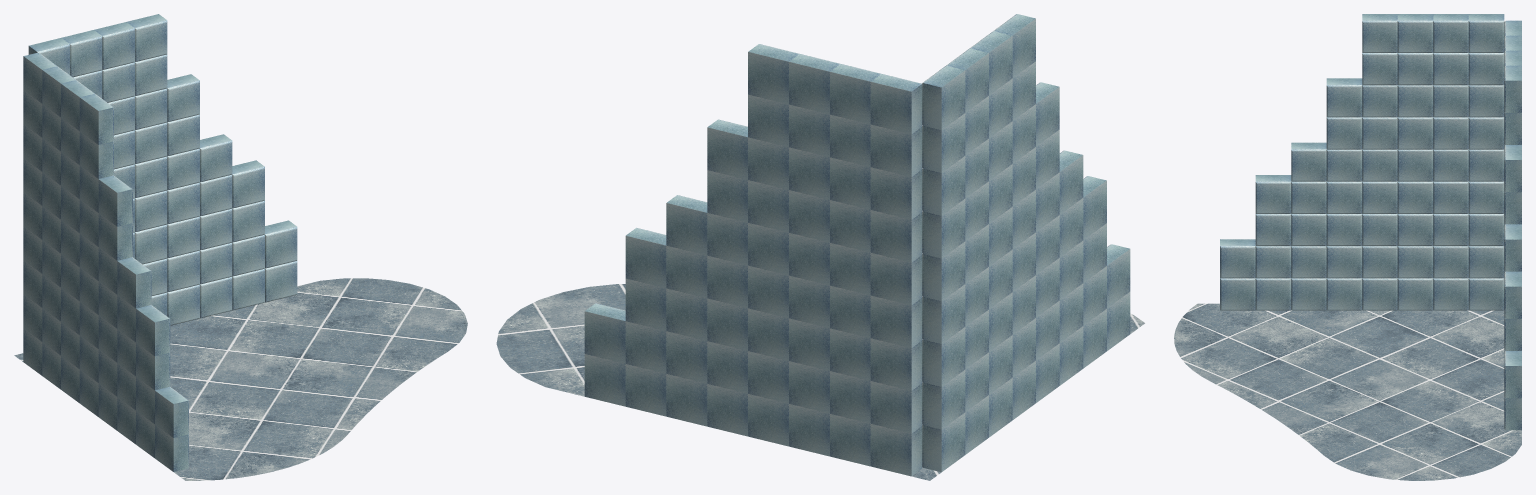
The model's file is Bath inviroment.fbx.
3 renders of one model, left to right at view 1: azimuth 30°, elevation 25°; view 2: azimuth 150°, elevation 25°; view 3: azimuth 270°, elevation 25°, orthographic. The views are drawn at different scales.
Visible parts, largest first — view 1: Group4, glassbricks43, glassbricks54, glassbricks28, glassbricks31, glassbricks19, glassbricks97, glassbricks101, glassbricks106, glassbricks108, glassbricks82, glassbricks85 (+75 smaller); view 2: Group4, glassbricks105, glassbricks51, glassbricks63, glassbricks91, glassbricks100, glassbricks61, glassbricks62, glassbricks92, glassbricks102, glassbricks94, glassbricks106 (+97 smaller); view 3: Group4, glassbricks54, glassbricks28, glassbricks47, glassbricks51, glassbricks19, glassbricks31, glassbricks43, glassbricks52, glassbricks32, glassbricks37, glassbricks3 (+52 smaller).
Part boxes in pixels (left/top/right/bottom): Group4: left=14, top=278, right=467, bottom=480; glassbricks43: left=79, top=93, right=113, bottom=144; glassbricks54: left=98, top=175, right=132, bottom=226; glassbricks28: left=136, top=305, right=170, bottom=356; glassbricks31: left=117, top=257, right=151, bottom=308; glassbricks19: left=155, top=387, right=188, bottom=437; glassbricks97: left=127, top=14, right=167, bottom=61; glassbricks101: left=94, top=22, right=134, bottom=69; glassbricks106: left=61, top=30, right=102, bottom=77; glassbricks108: left=167, top=74, right=199, bottom=122; glassbricks82: left=232, top=160, right=264, bottom=208; glassbricks85: left=200, top=134, right=232, bottom=182; Group4: left=496, top=284, right=1144, bottom=480; glassbricks105: left=870, top=74, right=922, bottom=134; glassbricks51: left=922, top=65, right=965, bottom=130; glassbricks63: left=870, top=338, right=922, bottom=390; glassbricks91: left=870, top=210, right=922, bottom=262; glassbricks100: left=870, top=167, right=922, bottom=219; glassbricks61: left=870, top=381, right=922, bottom=433; glassbricks62: left=870, top=424, right=922, bottom=476; glassbricks92: left=870, top=253, right=922, bottom=305; glassbricks102: left=870, top=124, right=922, bottom=176; glassbricks94: left=870, top=295, right=922, bottom=347; glassbricks106: left=830, top=64, right=881, bottom=124; Group4: left=1174, top=303, right=1521, bottom=480; glassbricks54: left=1326, top=78, right=1362, bottom=117; glassbricks28: left=1255, top=175, right=1291, bottom=213; glassbricks47: left=1397, top=14, right=1433, bottom=52; glassbricks51: left=1468, top=14, right=1504, bottom=52; glassbricks19: left=1220, top=239, right=1255, bottom=278; glassbricks31: left=1291, top=142, right=1326, bottom=181; glassbricks43: left=1362, top=14, right=1397, bottom=52; glassbricks52: left=1433, top=14, right=1468, bottom=52; glassbricks32: left=1397, top=117, right=1433, bottom=149; glassbricks37: left=1468, top=117, right=1504, bottom=149; glassbricks3: left=1397, top=278, right=1433, bottom=310.
Size of the model in its own units: 2.36 by 1.8 by 1.96.
